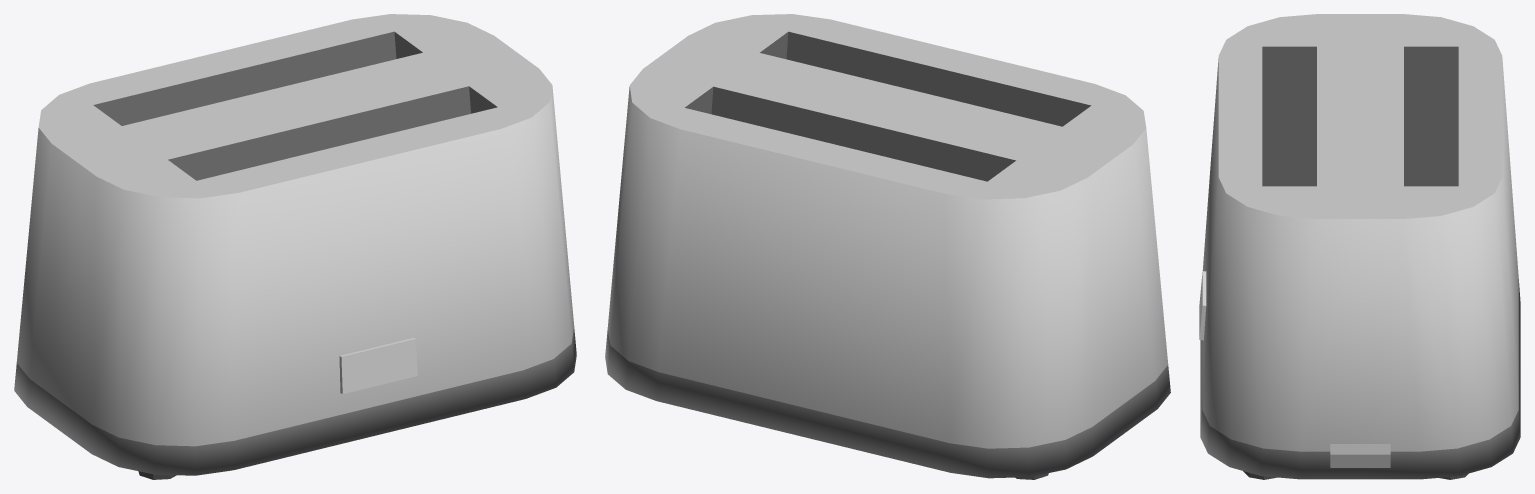
File: toaster.glb
The picture shows the model from 3 angles, left to right: view 1: azimuth 30°, elevation 25°; view 2: azimuth 150°, elevation 25°; view 3: azimuth 270°, elevation 25°; orthographic projection. The views are drawn at different scales.
Parts seen in each view (by area): view 1: Toaster; view 2: Toaster; view 3: Toaster.
Boxes of the visible parts, left/top/right/bottom form: Toaster: left=14, top=14, right=576, bottom=479; Toaster: left=605, top=14, right=1170, bottom=479; Toaster: left=1199, top=14, right=1520, bottom=479.
Bounding box in the file's own units: 0.2551 × 0.1393 × 0.1515.
Materials: 1 (1 with a texture image).
